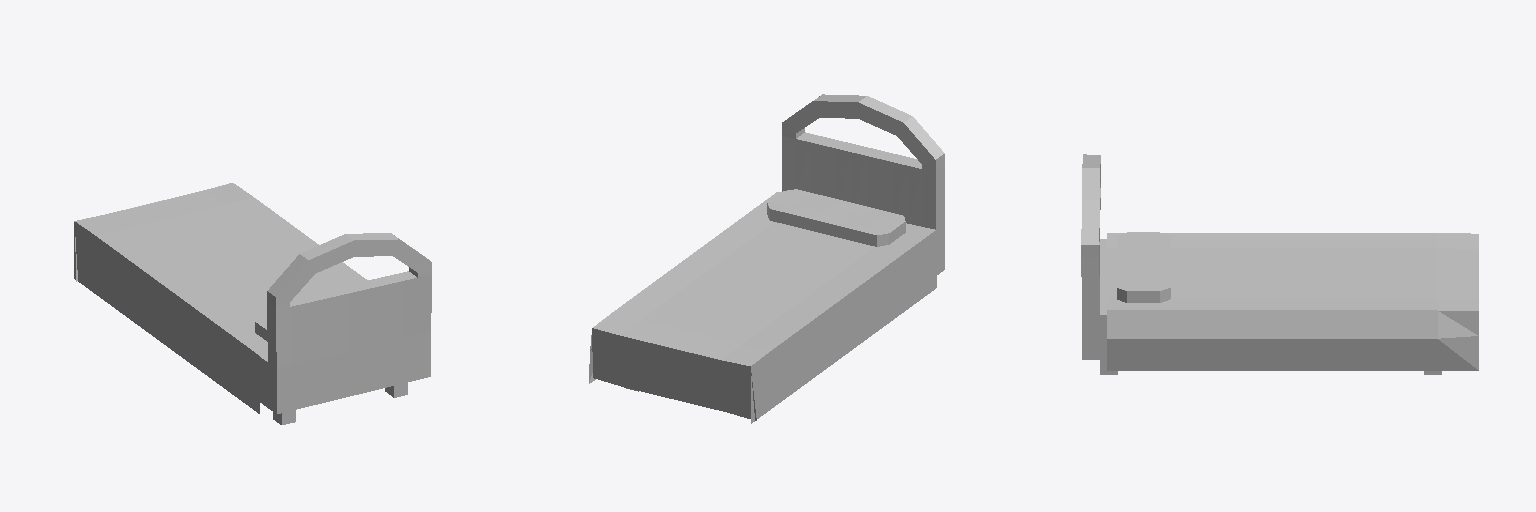
The model's file is cama.obj.
3 views of the same model, side by side, from view 1: azimuth 30°, elevation 25°; view 2: azimuth 150°, elevation 25°; view 3: azimuth 270°, elevation 25° (orthographic).
Parts seen in each view (by area): view 1: Plano, Cubo; view 2: Plano, Cubo, Cubo.001_Cubo.002; view 3: Plano, Cubo, Cubo.001_Cubo.002.
Boxes of the visible parts, box(x1,y1,x2,y2) form: Plano: box(74, 183, 367, 413); Cubo: box(260, 233, 431, 424); Plano: box(589, 192, 936, 423); Cubo: box(626, 94, 944, 391); Cubo.001_Cubo.002: box(767, 189, 905, 246); Plano: box(1107, 233, 1478, 370); Cubo: box(1081, 154, 1441, 374); Cubo.001_Cubo.002: box(1117, 232, 1170, 302).
Bounding box in the file's own units: 4.42 × 4.42 × 9.05.